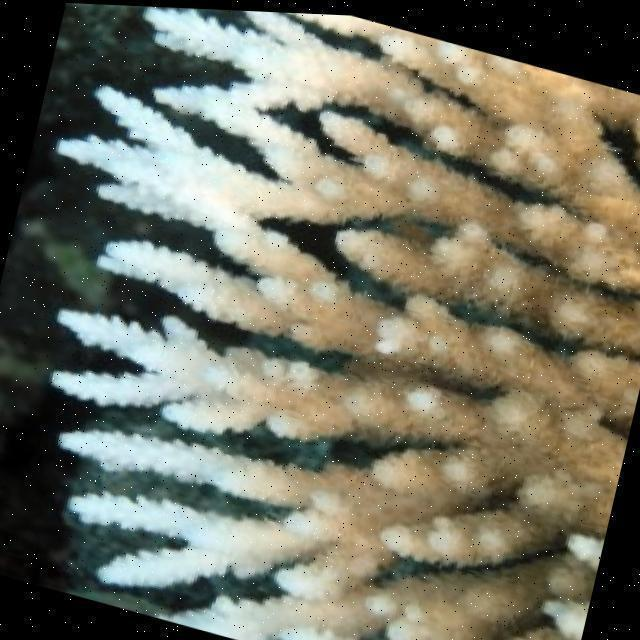Bleached Coral: (45, 0, 333, 638)
